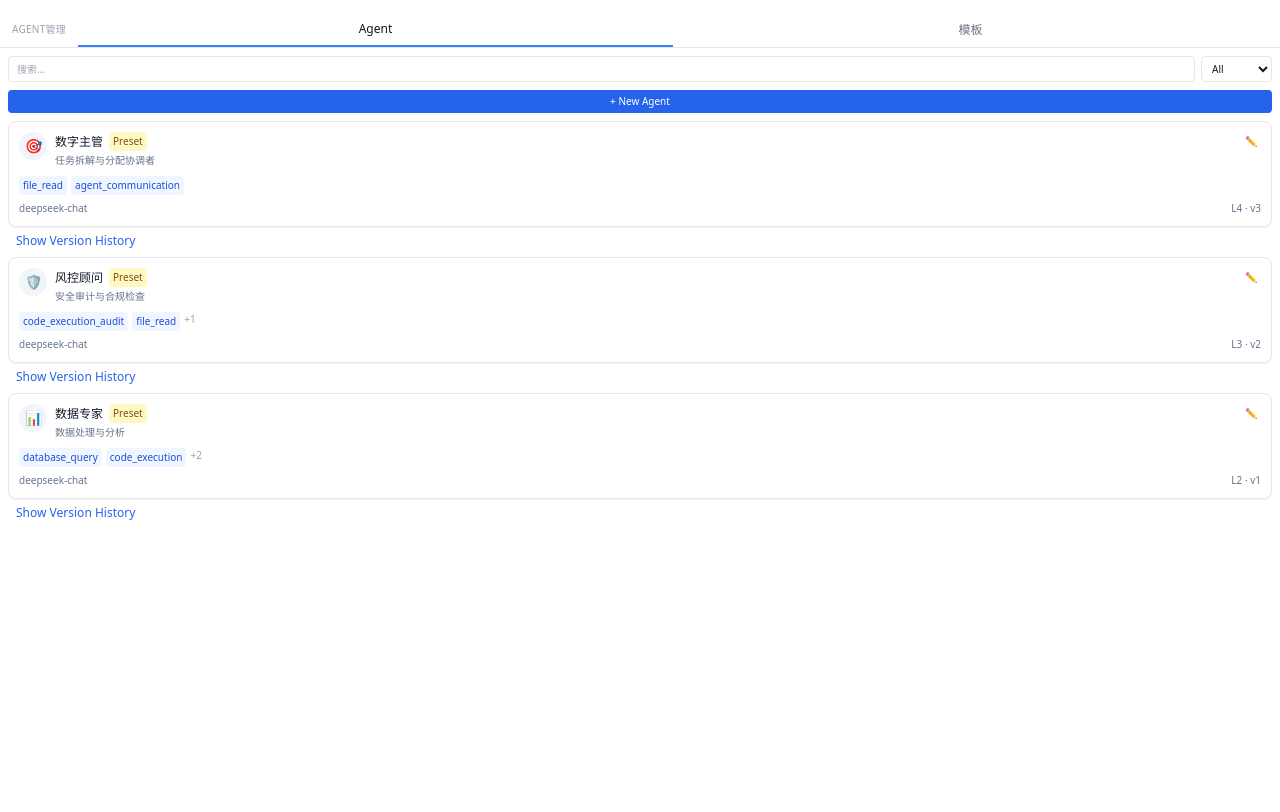
Scenario: AgentManagerUI › opens the template library when clicking Templates tab
This screenshot has width=1280, height=812.
Click the tab "模板": x=970, y=30 [673,12,1268,46]
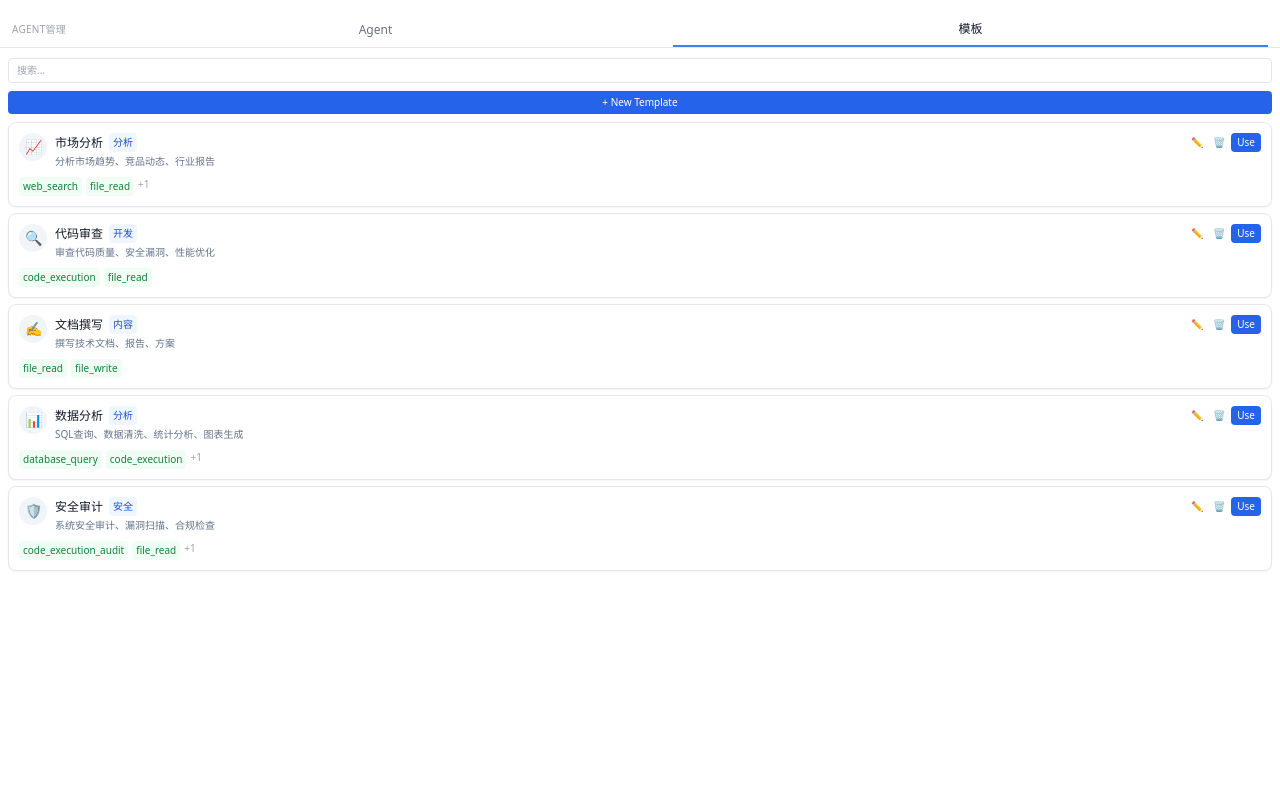
Expected: the heading "市场分析" is shown, [55,134,103,150]
Expected: the heading "代码审查" is shown, [55,226,103,242]
Expected: the heading "文档撰写" is shown, [55,316,103,332]
